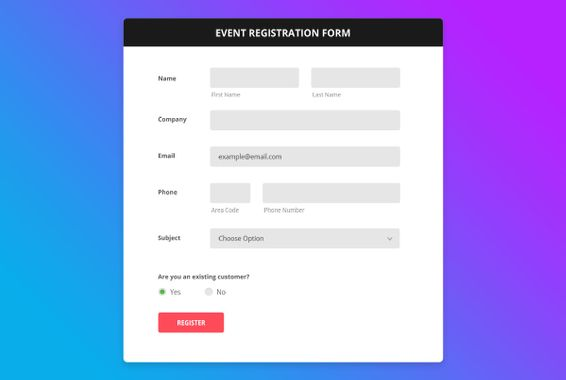_form_: (96, 1, 512, 380)
button: (157, 311, 226, 334)
field: (207, 145, 401, 168), (208, 109, 401, 131), (209, 228, 401, 250), (262, 183, 401, 204), (208, 68, 300, 91), (310, 66, 400, 89), (208, 182, 251, 204)
field_with_label: (157, 107, 404, 133), (158, 144, 404, 170), (158, 226, 404, 251), (158, 66, 303, 92), (158, 180, 253, 205)
radio: (157, 284, 168, 298), (203, 286, 213, 298)
radio_with_label: (200, 283, 228, 300), (154, 282, 180, 300)
